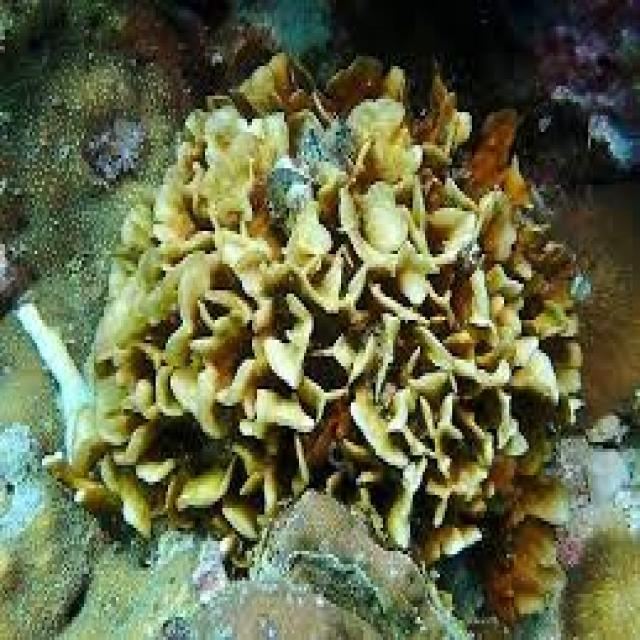Coral: (42, 51, 584, 624)
